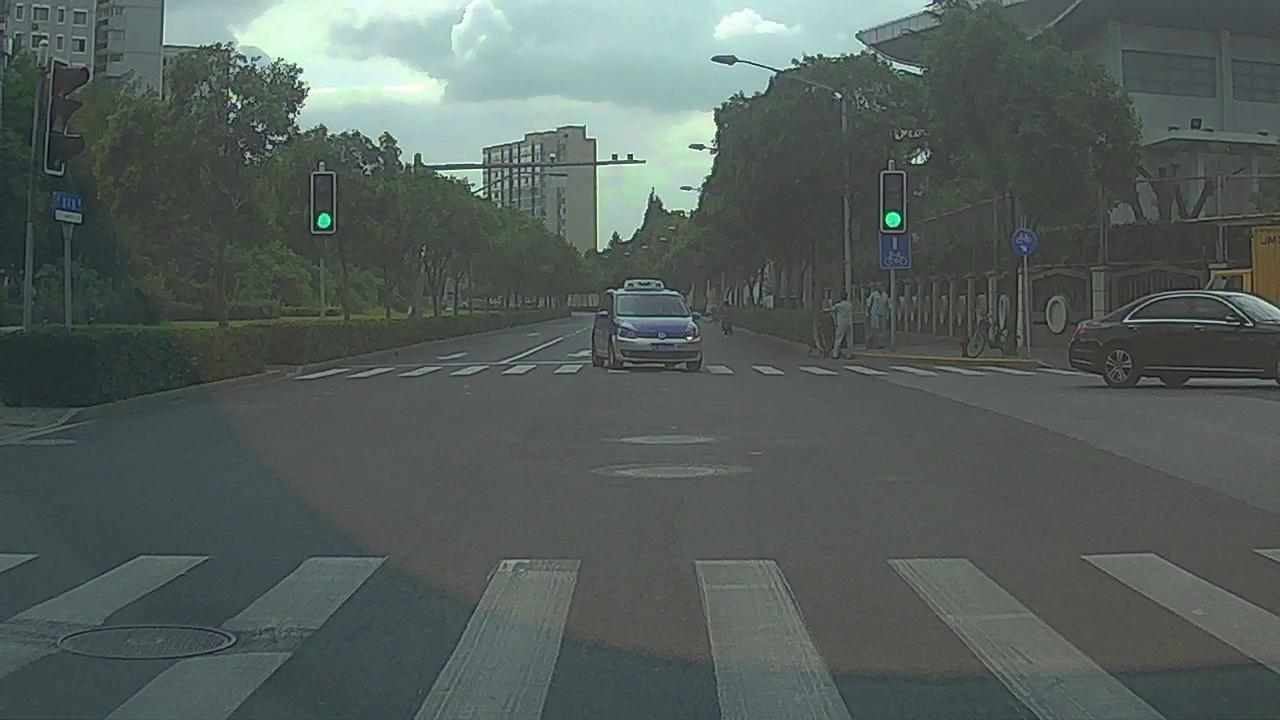traffic_light: (312, 175, 335, 233), (883, 172, 905, 230)
